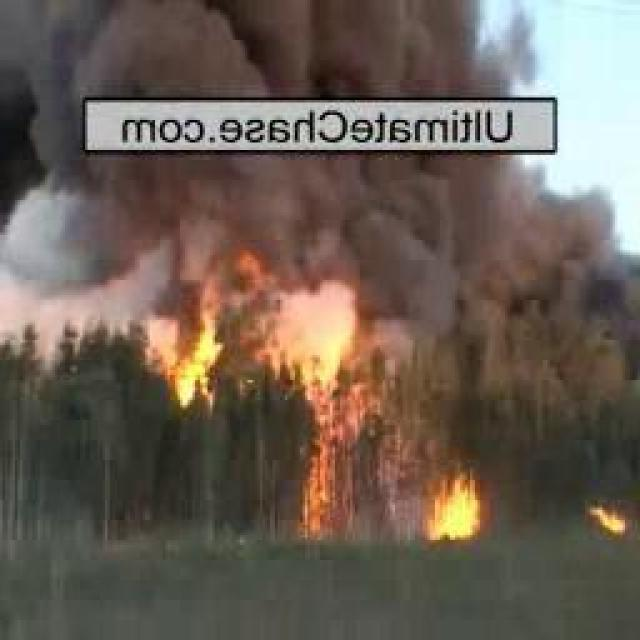Fire: (281, 361, 371, 541), (144, 278, 227, 410), (418, 471, 480, 539), (594, 511, 625, 533)
